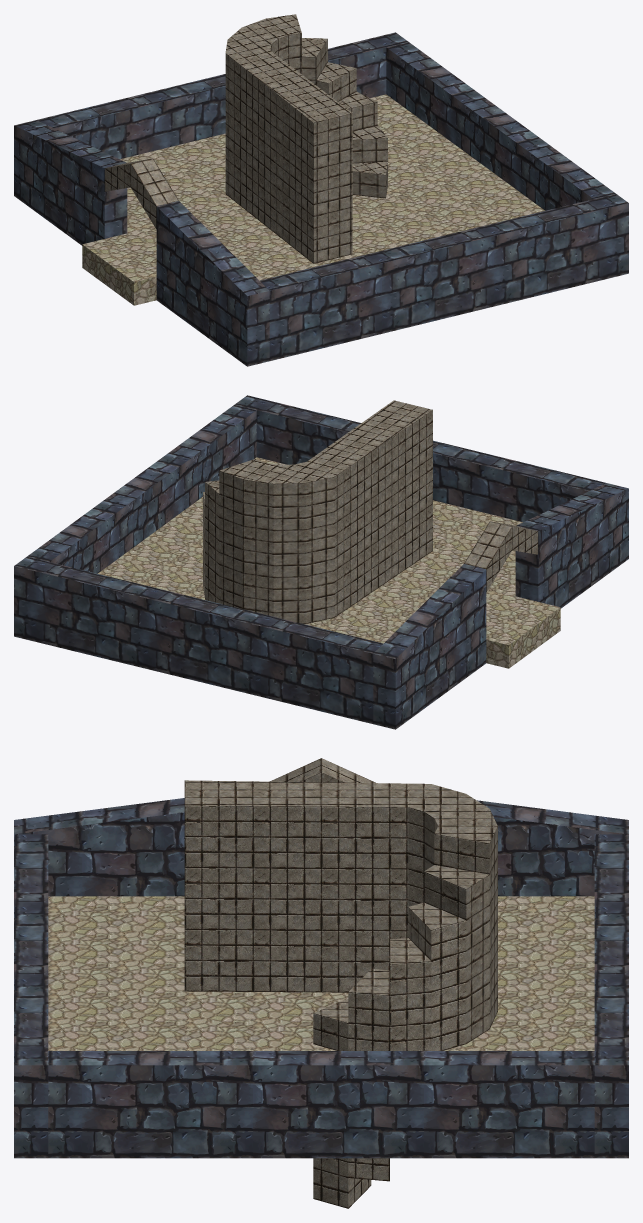
The model's file is CyclopsExportTest1.gltf.
The picture shows the model from 3 angles, top to bottom: view 1: azimuth 30°, elevation 25°; view 2: azimuth 150°, elevation 25°; view 3: azimuth 270°, elevation 25°; orthographic projection. The views are drawn at different scales.
Visible parts, largest first — view 1: Block_1_mesh, block0_mesh, Block_21_mesh, Block_0_mesh, Block_4_mesh, Block_2_mesh, Block_3_mesh, Block_5_mesh, Block_22_mesh, Block_12_mesh, Block_13_mesh, Block_15_mesh (+6 smaller); view 2: Block_2_mesh, Block_21_mesh, block0_mesh, Block_0_mesh, Block_1_mesh, Block_3_mesh, Block_4_mesh, Block_19_mesh, Block_20_mesh, Block_18_mesh, Block_5_mesh, Block_17_mesh (+3 smaller); view 3: Block_0_mesh, Block_21_mesh, block0_mesh, Block_4_mesh, Block_1_mesh, Block_2_mesh, Block_3_mesh, Block_15_mesh, Block_16_mesh, Block_14_mesh, Block_17_mesh, Block_13_mesh (+6 smaller).
Boxes of the visible parts, box(x1,y1,x2,y2) form: Block_1_mesh: box(260, 193, 628, 360); block0_mesh: box(120, 94, 544, 280); Block_21_mesh: box(225, 50, 352, 263); Block_0_mesh: box(386, 42, 615, 210); Block_4_mesh: box(156, 201, 269, 366); Block_2_mesh: box(37, 32, 408, 159); Block_3_mesh: box(14, 120, 127, 245); Block_5_mesh: box(82, 233, 156, 305); Block_22_mesh: box(130, 158, 178, 229); Block_12_mesh: box(352, 161, 387, 198); Block_13_mesh: box(352, 125, 387, 163); Block_15_mesh: box(316, 62, 356, 101); Block_2_mesh: box(14, 556, 382, 723); Block_21_mesh: box(307, 400, 432, 617); block0_mesh: box(98, 457, 522, 643); Block_0_mesh: box(27, 405, 256, 573); Block_1_mesh: box(234, 395, 605, 522); Block_3_mesh: box(373, 564, 486, 729); Block_4_mesh: box(515, 483, 628, 608); Block_19_mesh: box(273, 464, 305, 623); Block_20_mesh: box(294, 462, 334, 623); Block_18_mesh: box(243, 463, 279, 616); Block_5_mesh: box(486, 596, 560, 668); Block_17_mesh: box(219, 459, 265, 609); Block_0_mesh: box(48, 1051, 594, 1158); Block_21_mesh: box(184, 780, 430, 992); block0_mesh: box(48, 896, 594, 1050); Block_4_mesh: box(14, 798, 184, 896); Block_1_mesh: box(14, 834, 48, 1158); Block_2_mesh: box(594, 834, 628, 1158); Block_3_mesh: box(477, 800, 628, 896); Block_15_mesh: box(408, 902, 466, 1050); Block_16_mesh: box(424, 865, 489, 1043); Block_14_mesh: box(390, 938, 431, 1050); Block_17_mesh: box(434, 826, 497, 1028); Block_13_mesh: box(348, 969, 389, 1181).
Bounding box in the file's own units: 18 × 11 × 18.
3 materials, 3 textured.
